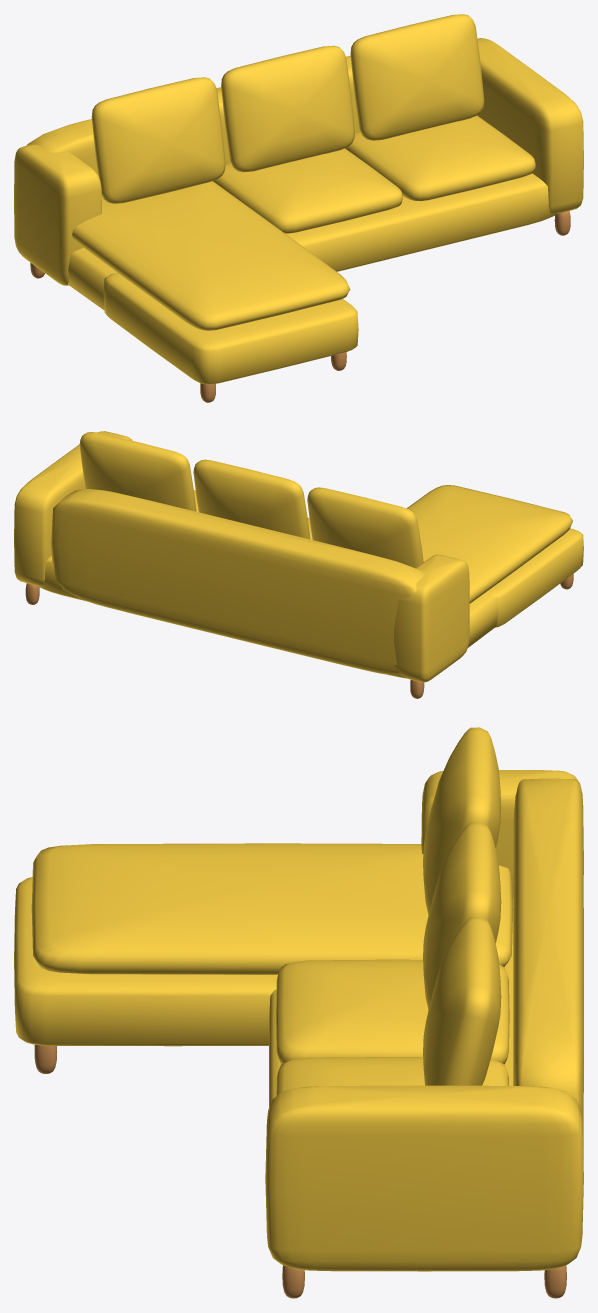
Rendered from sofa_chaise_amarelo.glb.
The picture shows the model from 3 angles, top to bottom: view 1: azimuth 30°, elevation 25°; view 2: azimuth 150°, elevation 25°; view 3: azimuth 270°, elevation 25°; orthographic projection. The views are drawn at different scales.
Parts seen in each view (by area): view 1: sofa_chaise_amarelo; view 2: sofa_chaise_amarelo; view 3: sofa_chaise_amarelo.
Part boxes in pixels (x1,y1,x2,y2): sofa_chaise_amarelo: [14, 14, 583, 402]; sofa_chaise_amarelo: [14, 431, 583, 698]; sofa_chaise_amarelo: [14, 727, 583, 1298].
Size of the model in its own units: 2.31 by 0.8707 by 1.61.
1 material, 1 textured.
